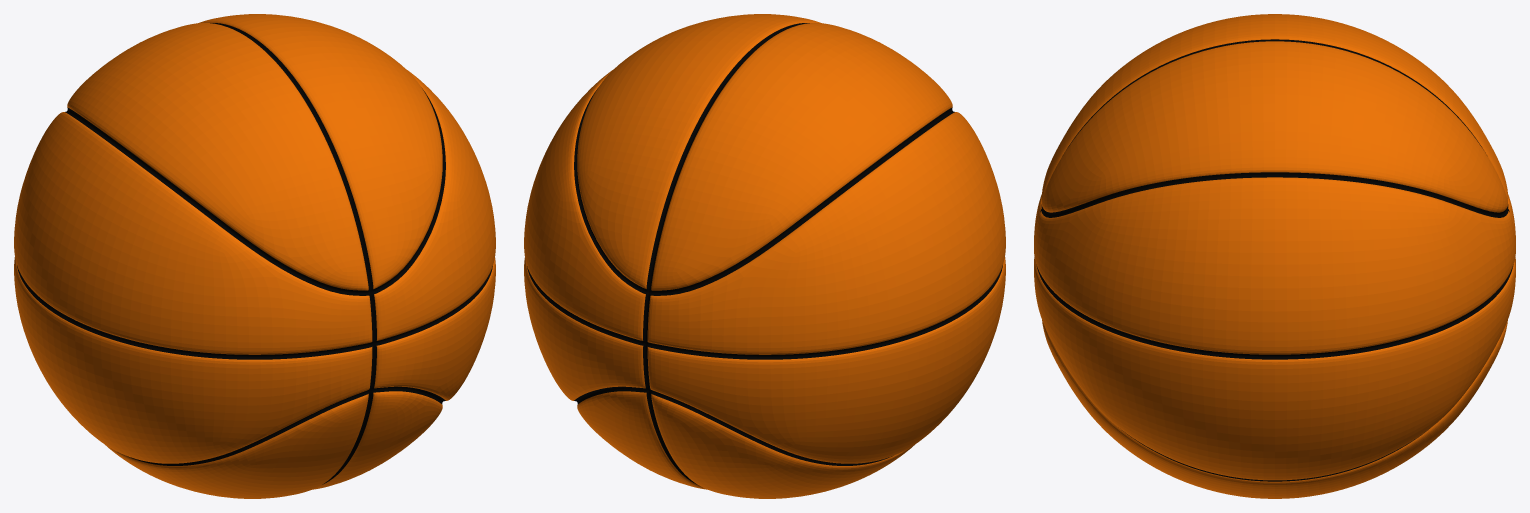
The model's file is Basketball.fbx.
3 renders of one model, left to right at view 1: azimuth 30°, elevation 25°; view 2: azimuth 150°, elevation 25°; view 3: azimuth 270°, elevation 25°, orthographic.
Visible parts, largest first — view 1: Cube; view 2: Cube; view 3: Cube.
Part boxes in pixels (bbox=[...]): Cube: bbox=[14, 14, 495, 498]; Cube: bbox=[524, 14, 1005, 498]; Cube: bbox=[1034, 14, 1515, 498].
Bounding box in the file's own units: 161 × 161 × 161.
